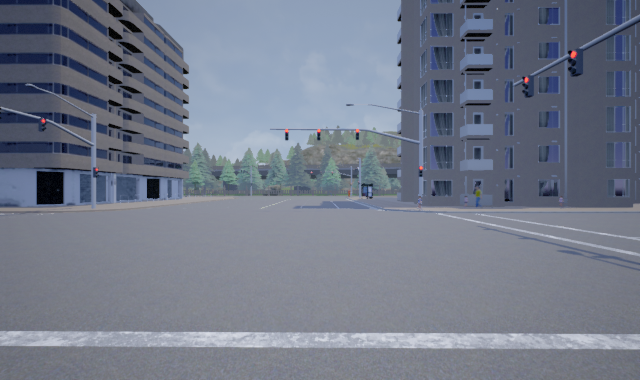pedestrian: (471, 185, 484, 208), (555, 194, 566, 208), (461, 194, 470, 208), (415, 195, 423, 210)
